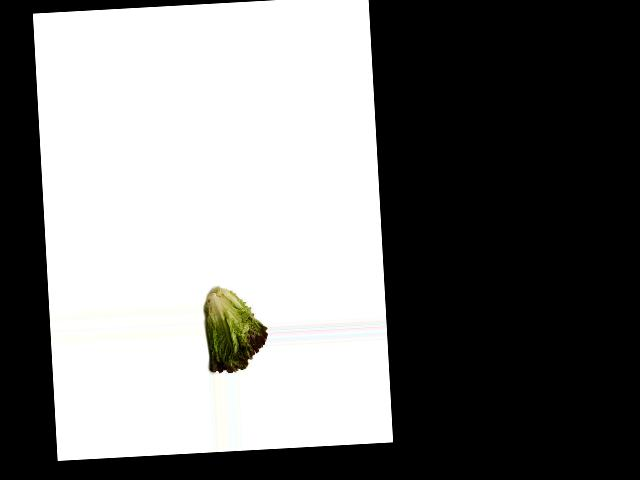lettuce: (204, 285, 268, 375)
